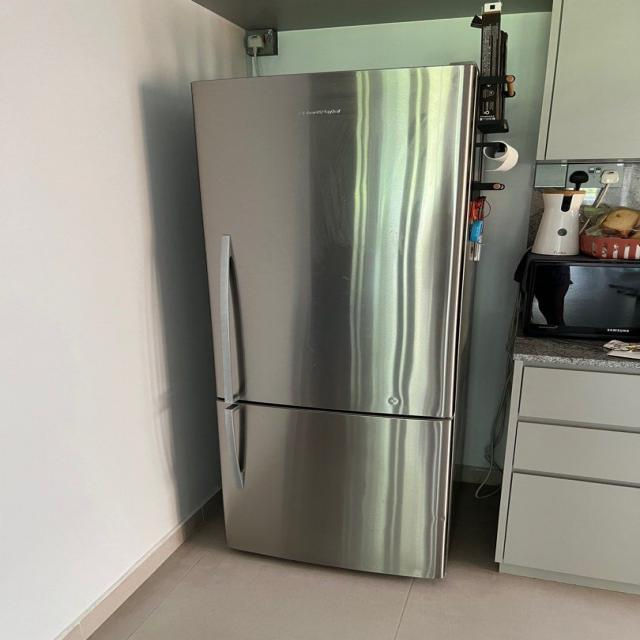refrigerator: (191, 61, 476, 586)
